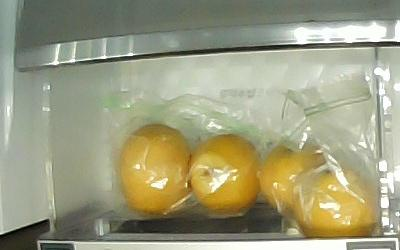pear_vinyl: (117, 122, 193, 213), (292, 166, 377, 238), (189, 132, 261, 212), (258, 139, 328, 217)
